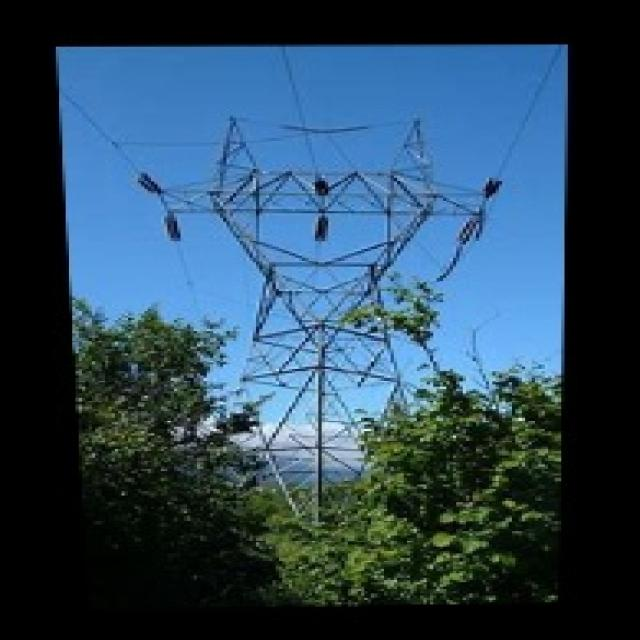utility poles: (330, 280, 523, 533), (135, 302, 300, 536)
